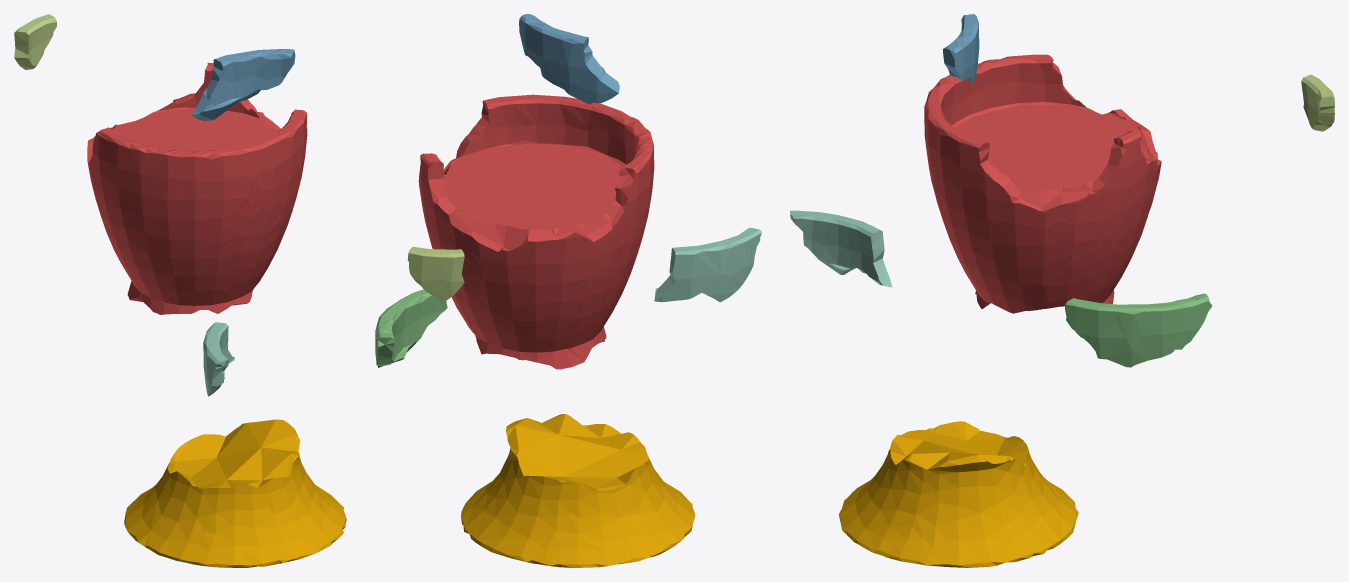
File: fractured_4_6pcs_transformed.glb
3 renders of one model, left to right at view 1: azimuth 30°, elevation 25°; view 2: azimuth 150°, elevation 25°; view 3: azimuth 270°, elevation 25°, orthographic. The views are drawn at different scales.
Parts seen in each view (by area): view 1: piece_1.obj, piece_0.obj, piece_2.obj, piece_5.obj, piece_4.obj; view 2: piece_1.obj, piece_0.obj, piece_4.obj, piece_2.obj, piece_3.obj, piece_5.obj; view 3: piece_1.obj, piece_0.obj, piece_3.obj, piece_4.obj, piece_2.obj, piece_5.obj.
Boxes of the visible parts, <box> form: piece_1.obj: <box>87,62,307,314</box>; piece_0.obj: <box>124,419,346,567</box>; piece_2.obj: <box>192,49,295,120</box>; piece_5.obj: <box>14,14,56,69</box>; piece_4.obj: <box>203,322,234,396</box>; piece_1.obj: <box>418,94,654,369</box>; piece_0.obj: <box>461,414,695,567</box>; piece_4.obj: <box>654,227,761,302</box>; piece_2.obj: <box>519,14,619,104</box>; piece_3.obj: <box>375,289,447,367</box>; piece_5.obj: <box>407,246,464,302</box>; piece_1.obj: <box>924,54,1161,313</box>; piece_0.obj: <box>839,421,1078,567</box>; piece_3.obj: <box>1065,293,1212,367</box>; piece_4.obj: <box>790,210,892,287</box>; piece_2.obj: <box>943,14,979,83</box>; piece_5.obj: <box>1301,74,1334,131</box>.
Size of the model in its own units: 0.8413 by 1.92 by 1.9.
